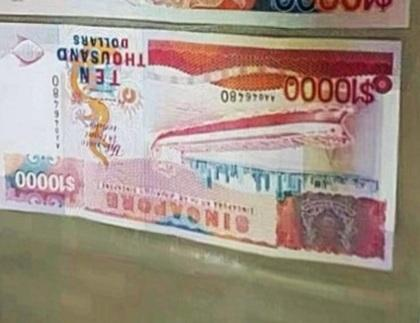10000SingaporeDollar: (0, 34, 391, 263)
